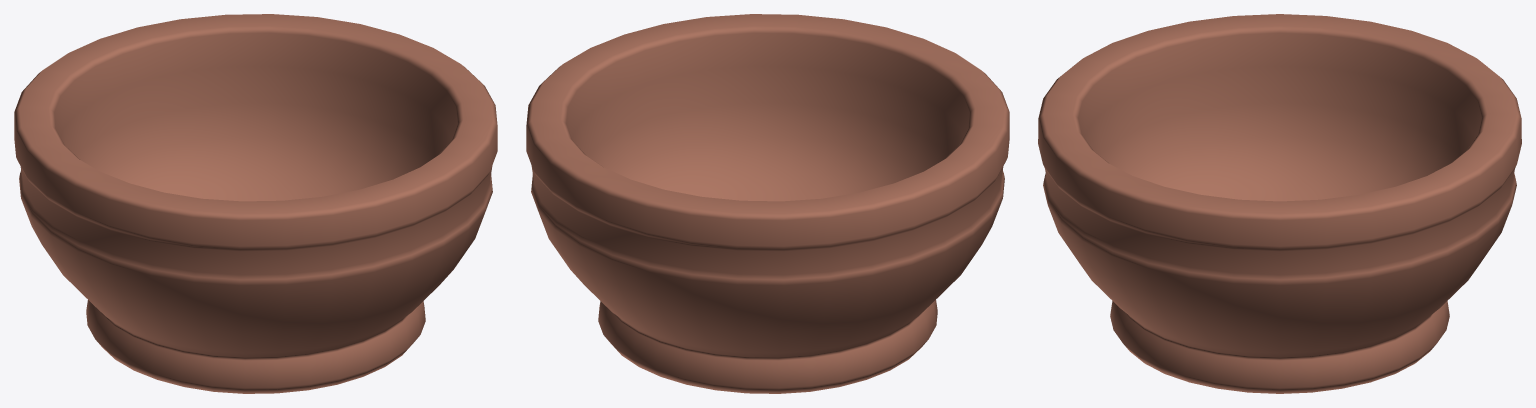
Rendered from MOD_Pot.fbx.
3 renders of one model, left to right at view 1: azimuth 30°, elevation 25°; view 2: azimuth 150°, elevation 25°; view 3: azimuth 270°, elevation 25°, orthographic.
Parts seen in each view (by area): view 1: MOD_Pot; view 2: MOD_Pot; view 3: MOD_Pot.
Part boxes in pixels (bbox=[...]): MOD_Pot: bbox=[14, 14, 497, 393]; MOD_Pot: bbox=[526, 14, 1009, 393]; MOD_Pot: bbox=[1038, 14, 1521, 393].
Bounding box in the file's own units: 14.71 × 7.1 × 14.71.
